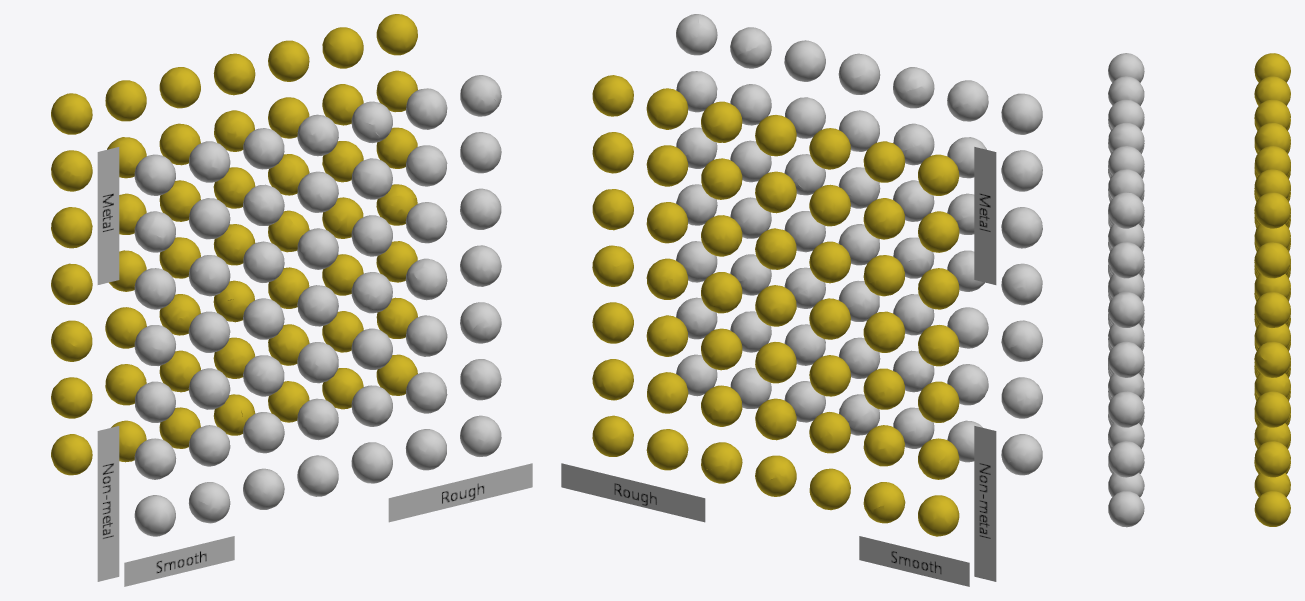
Rendered from MetalRoughSpheres.gltf.
3 renders of one model, left to right at view 1: azimuth 30°, elevation 25°; view 2: azimuth 150°, elevation 25°; view 3: azimuth 270°, elevation 25°, orthographic. The views are drawn at different scales.
Visible parts, largest first — view 1: nodes[4], nodes[3], nodes[5], nodes[2], nodes[1]; view 2: nodes[4], nodes[3], nodes[5], nodes[2], nodes[1]; view 3: nodes[4], nodes[3], nodes[2], nodes[5], nodes[1].
Part boxes in pixels (box(x1,y1,x2,y2)): nodes[4]: box(322, 14, 501, 413); nodes[3]: box(213, 40, 392, 440); nodes[5]: box(51, 147, 532, 586); nodes[2]: box(105, 67, 284, 466); nodes[1]: box(51, 93, 176, 479); nodes[4]: box(592, 14, 771, 413); nodes[3]: box(701, 40, 880, 440); nodes[5]: box(561, 147, 1042, 586); nodes[2]: box(809, 67, 988, 466); nodes[1]: box(918, 93, 1042, 479); nodes[4]: box(1108, 169, 1290, 477); nodes[3]: box(1108, 122, 1290, 424); nodes[2]: box(1108, 76, 1290, 376); nodes[5]: box(1108, 368, 1290, 527); nodes[1]: box(1108, 53, 1290, 328).
Bounding box in the file's own units: 9.62 × 9.33 × 4.
Materials: 1 (1 with a texture image).
